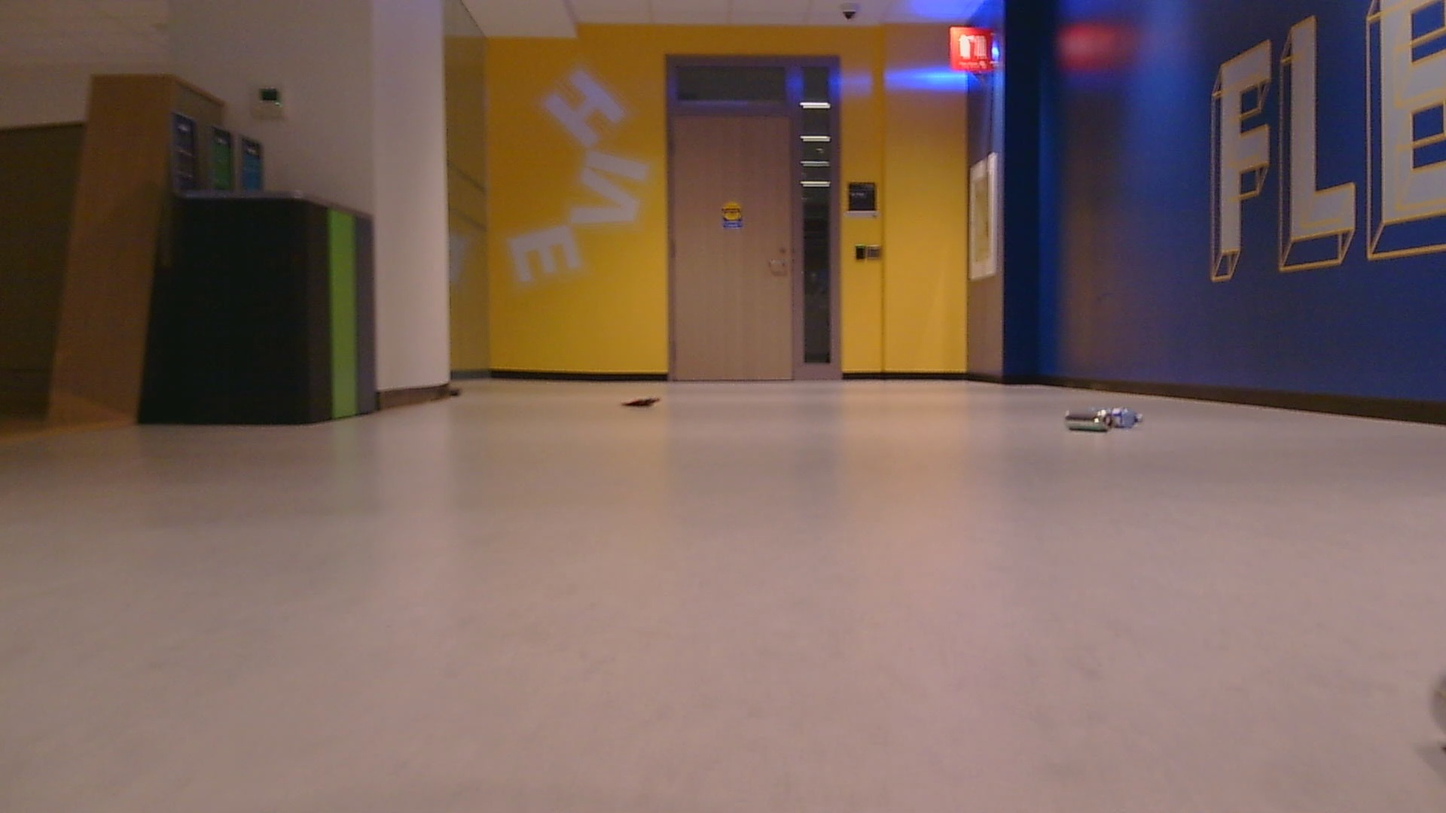can: (1063, 407, 1143, 434), (621, 397, 676, 420), (622, 395, 660, 408)
